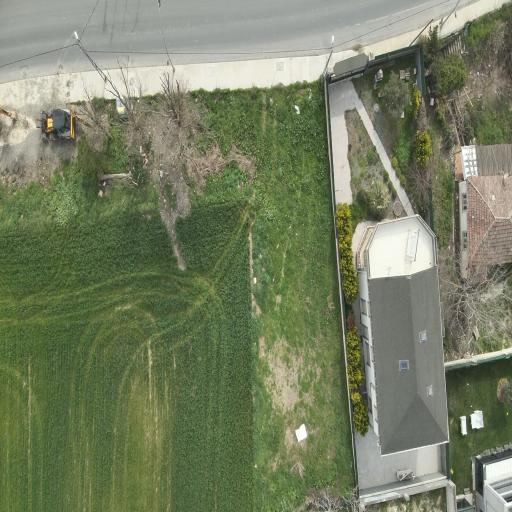car: (40, 109, 83, 140)
